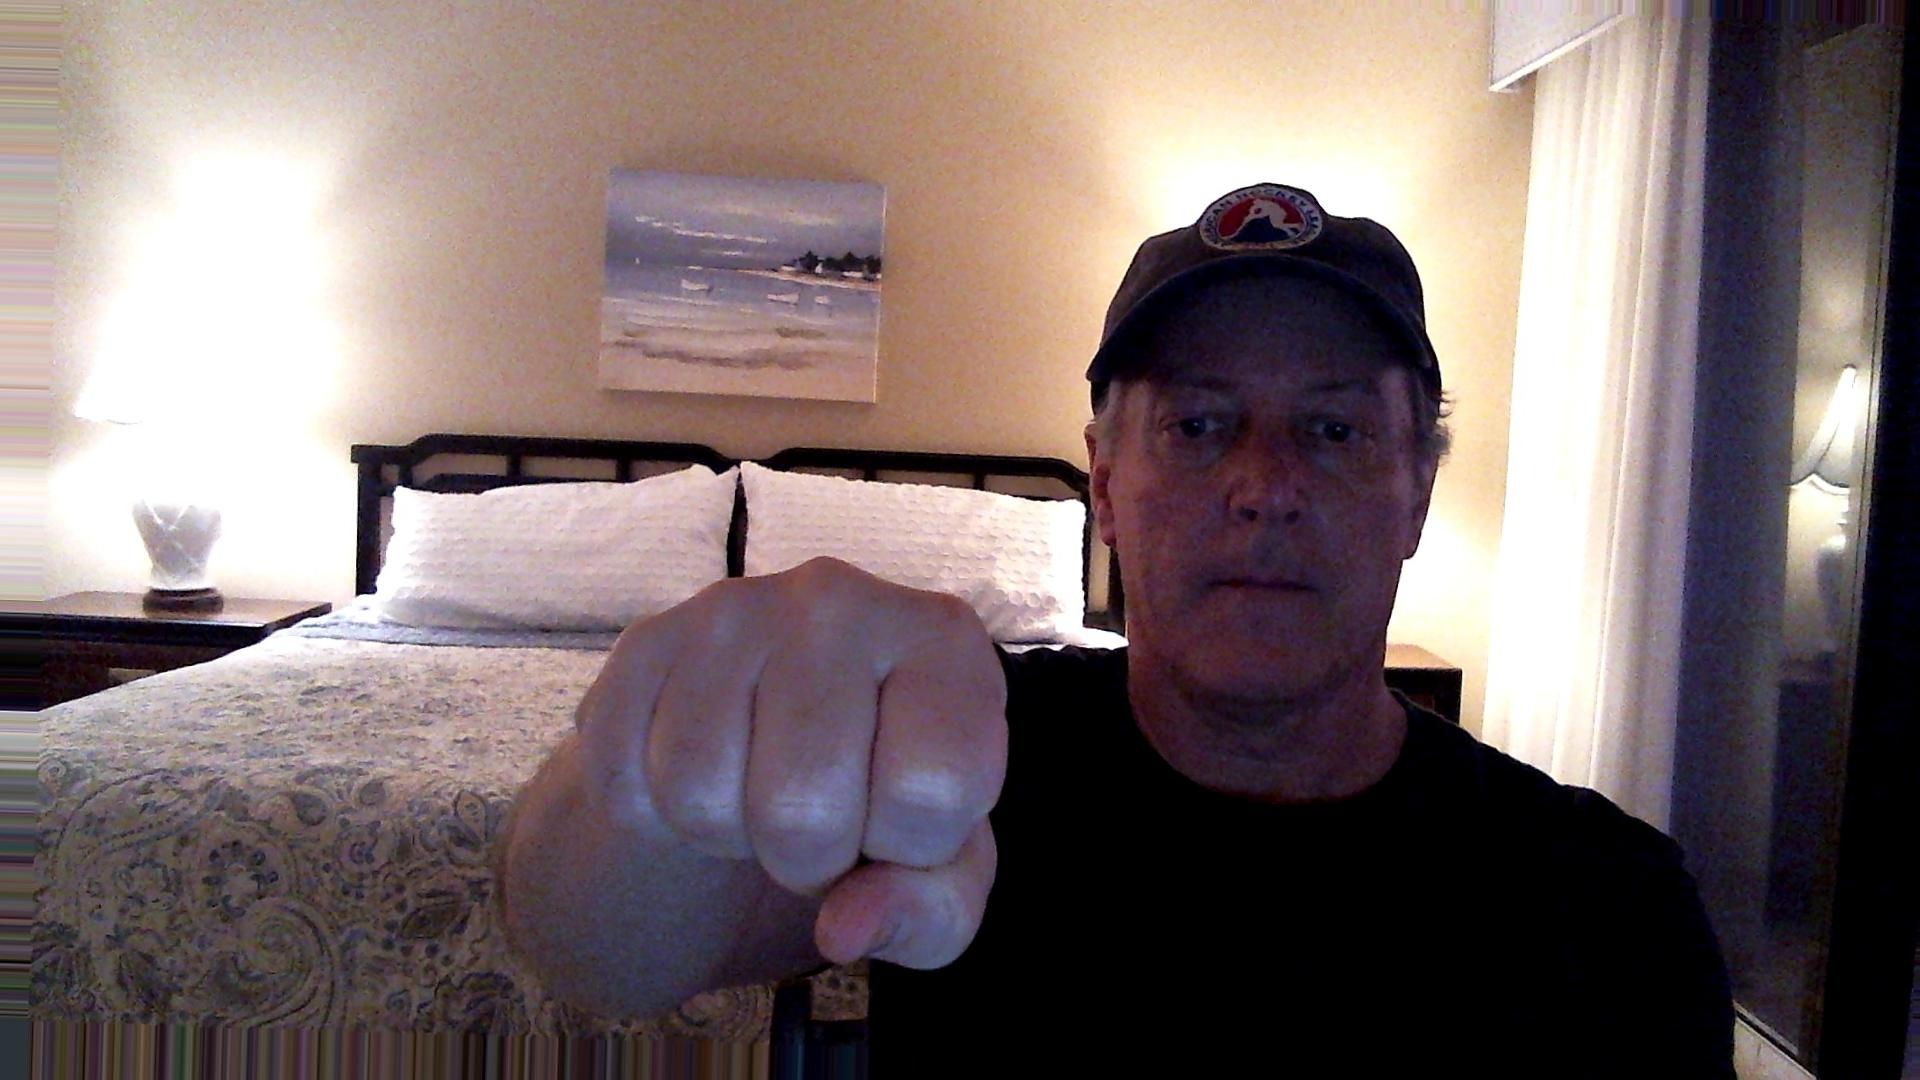Yes: (563, 541, 1036, 982)
